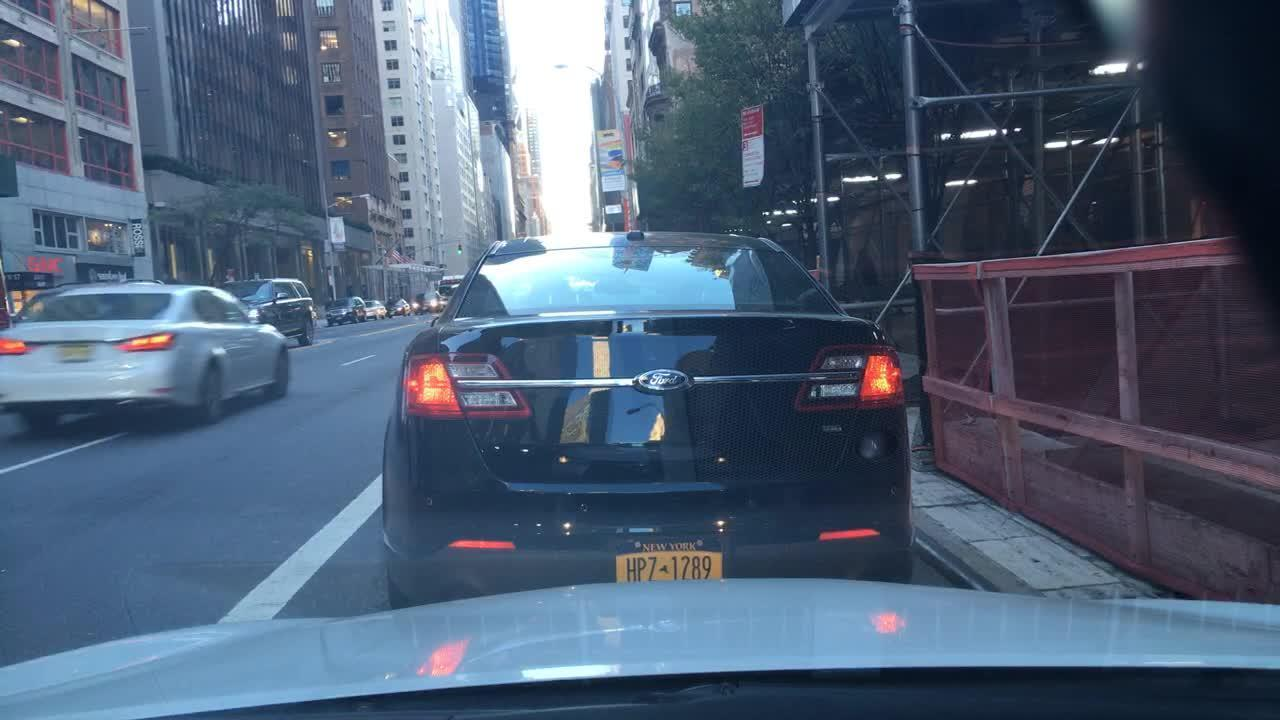ford: (623, 365, 700, 398)
